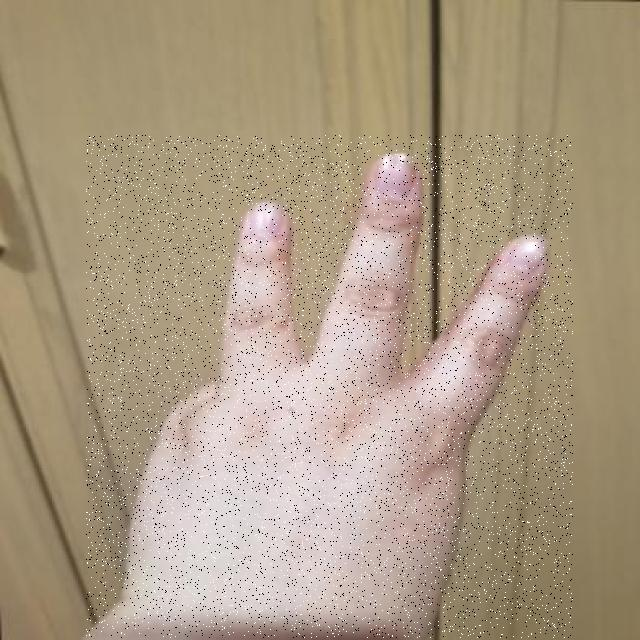W: (86, 135, 573, 638)
